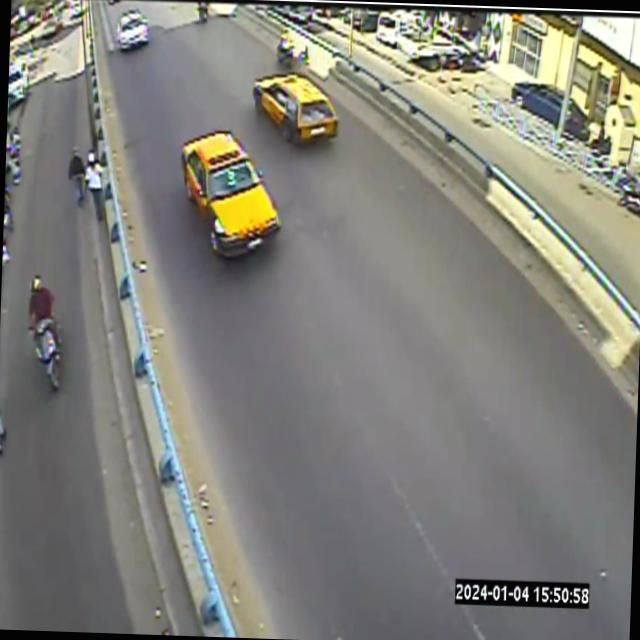car: (180, 129, 280, 255), (251, 75, 338, 142), (116, 9, 148, 50)
